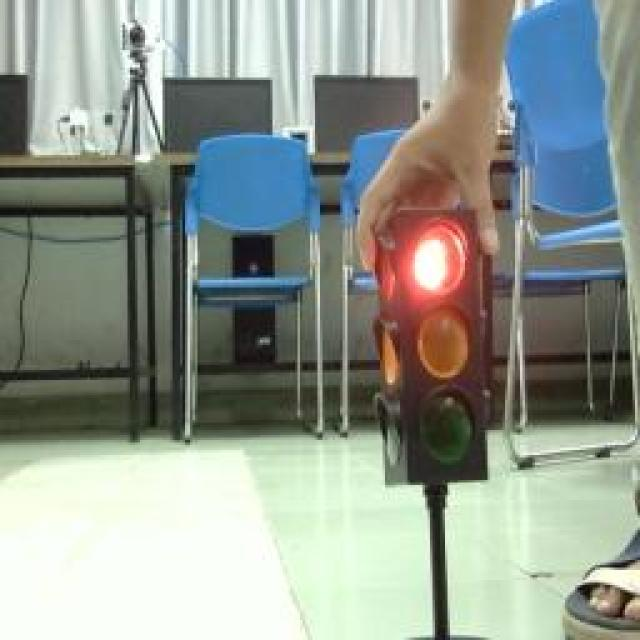-: (405, 215, 477, 300)
